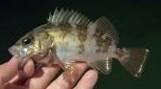fish: (8, 7, 153, 85)
